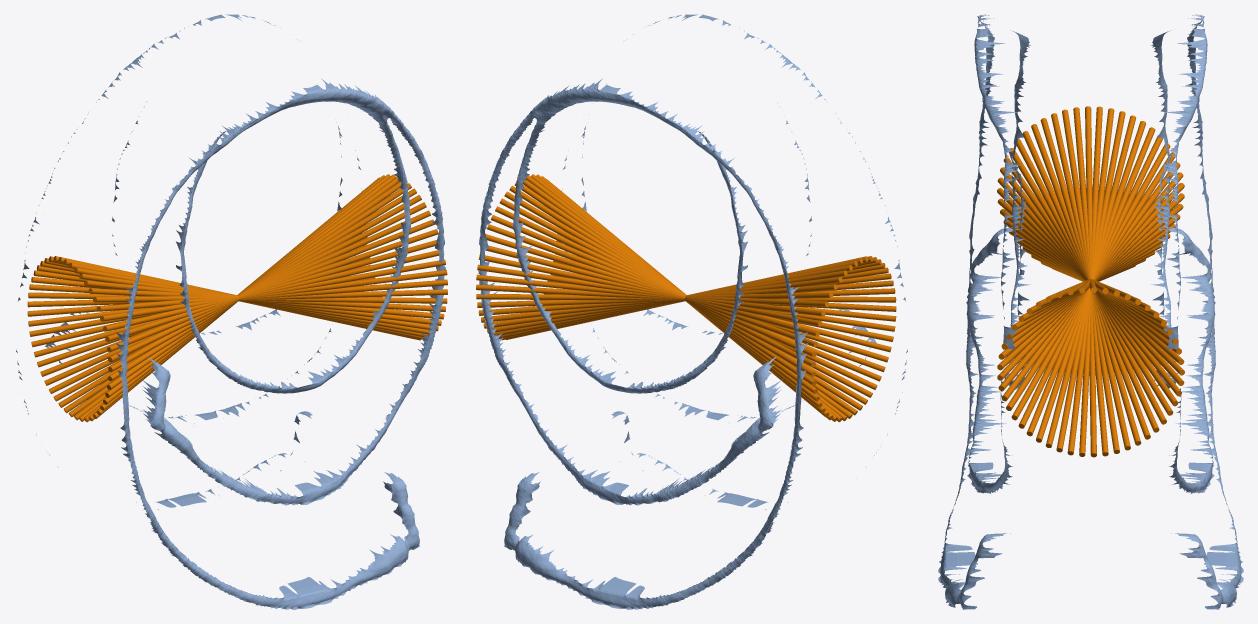
The model's file is A60026426-3_6150-37-520-2385_DigitalTwin.glb.
3 views of the same model, side by side, from view 1: azimuth 30°, elevation 25°; view 2: azimuth 150°, elevation 25°; view 3: azimuth 270°, elevation 25° (orthographic). The views are drawn at different scales.
Parts seen in each view (by area): view 1: world; view 2: world; view 3: world.
Part boxes in pixels (bbox=[...]): world: bbox=[16, 14, 447, 609]; world: bbox=[476, 14, 907, 609]; world: bbox=[938, 14, 1243, 609].
Size of the model in its own units: 280 by 394 by 198.
